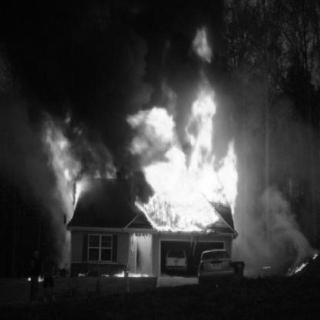Fire: (134, 26, 238, 238), (42, 110, 112, 213)
Smoke: (30, 14, 124, 98)
